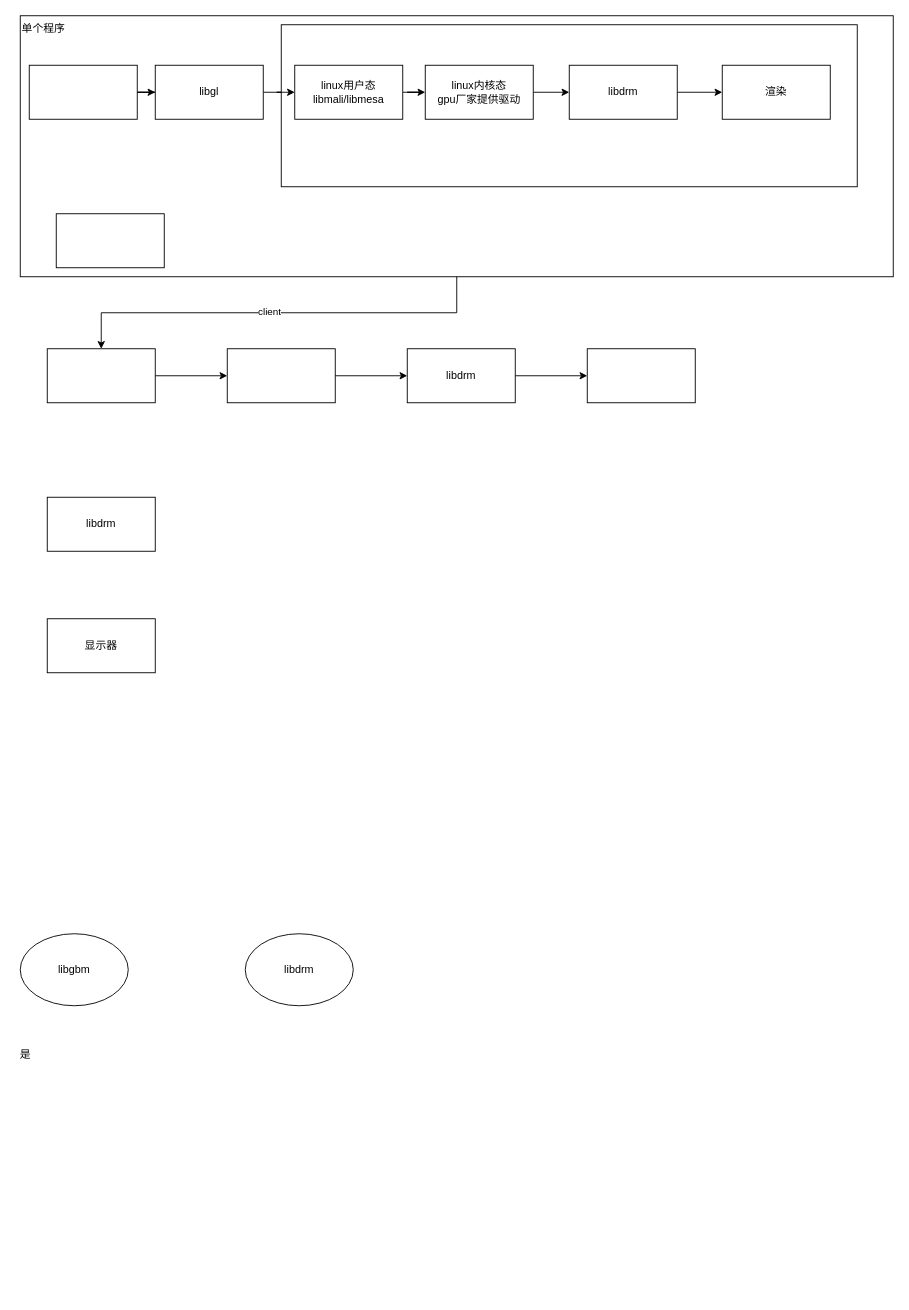
The diagram is 909 pixels wide and 1310 high, and some of its shapes have lost their labels. The box of each missing label's shape, as (x1, y1, x2, y2) in pixels:
egl: (55, 213, 164, 268)
gbm: (226, 348, 335, 403)
gpu driver: (280, 24, 857, 187)
gpu控制: (586, 348, 695, 403)
opengl: (28, 64, 137, 119)
wayland/x11 server: (46, 348, 155, 403)
